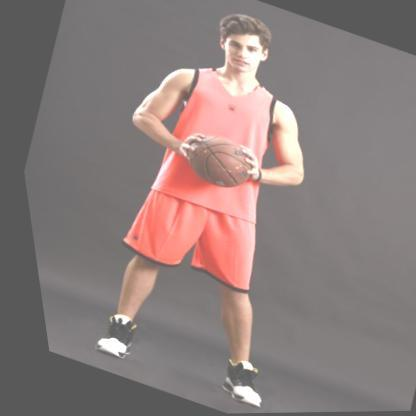basketball: (171, 126, 257, 197)
